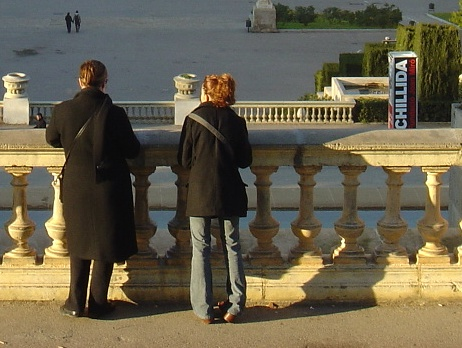person: (35, 60, 155, 320), (171, 72, 260, 321)
